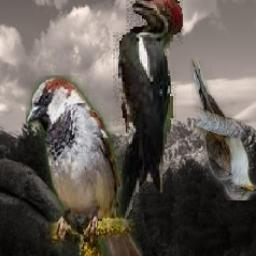Cuckoo: (190, 59, 256, 202)
Sparrow: (27, 75, 144, 256)
Woodpecker: (108, 0, 184, 244)
